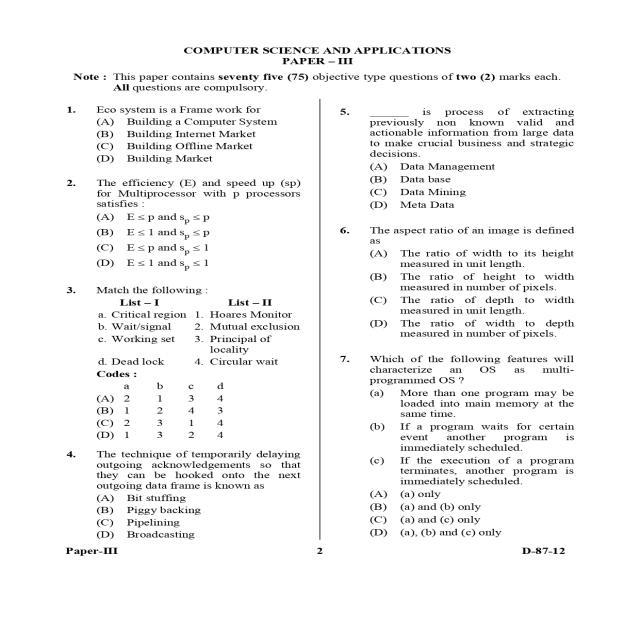Answer_Block: (336, 387, 585, 539), (335, 246, 585, 341), (62, 369, 310, 442), (61, 210, 309, 272), (61, 114, 310, 170), (336, 157, 585, 212), (61, 492, 308, 540)
Instruction: (62, 70, 582, 98)
Question_Answer_Block: (336, 351, 585, 539), (62, 282, 310, 442), (335, 220, 585, 342), (336, 100, 585, 212), (61, 176, 309, 272), (61, 446, 308, 540), (61, 100, 310, 170)
Question_Block: (62, 282, 310, 366), (336, 99, 585, 157), (61, 446, 308, 492), (336, 351, 585, 387), (61, 176, 309, 209), (335, 220, 585, 244), (61, 100, 310, 116)
Question_Paper_Area: (337, 100, 586, 540), (61, 100, 309, 540)
